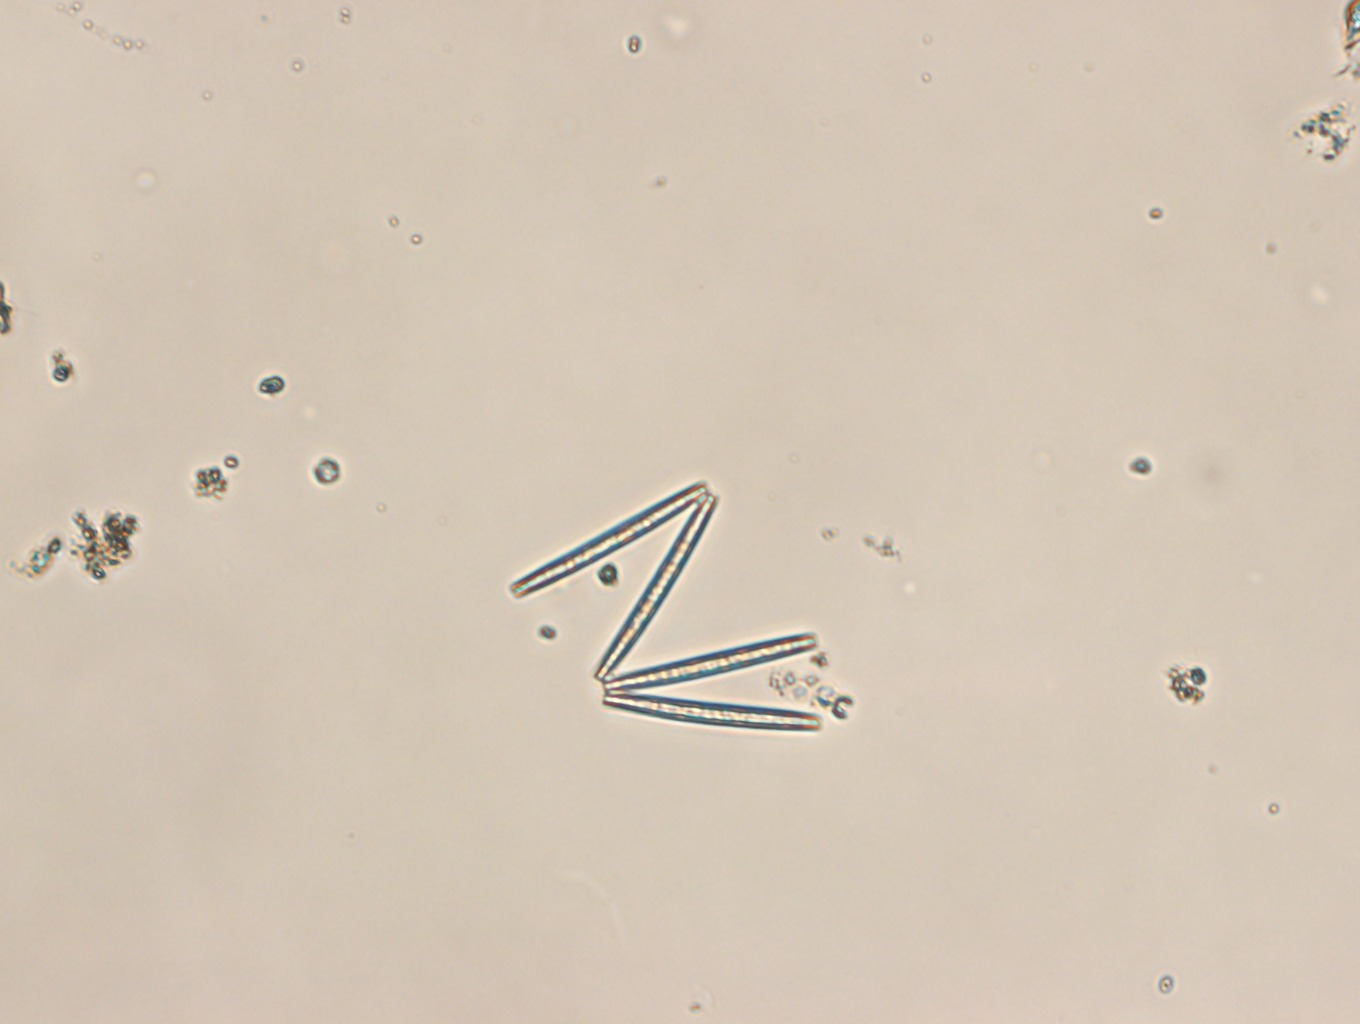thalassionema nitzschioides: (509, 477, 825, 735)
